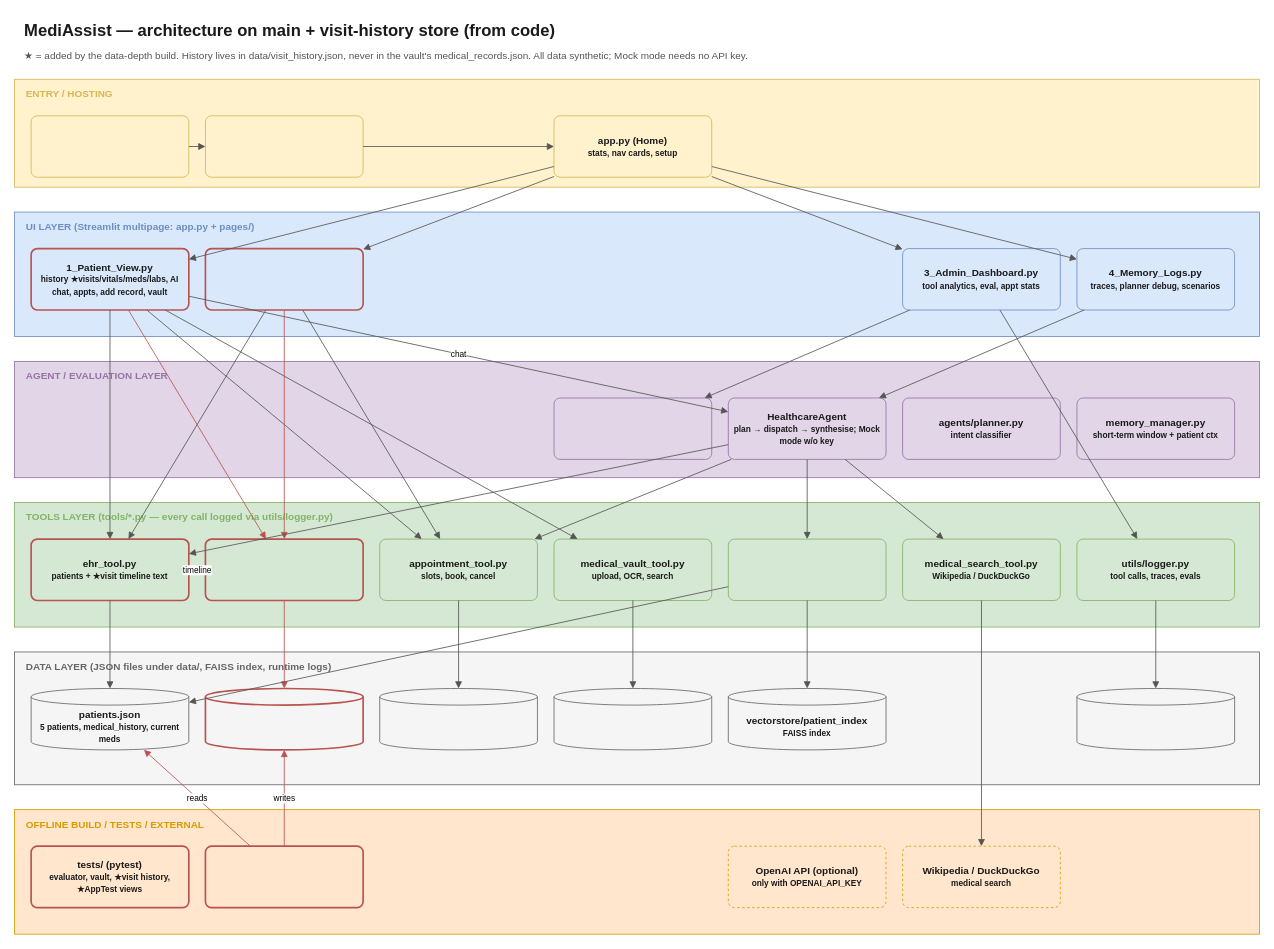
Some shapes in this 1274 by 949 pixel diagram are drawn without their labels. The shapes that lost their labels are listed below. From the top down, each one's centre as x and y in pixels, then its label:
At (109,146): "Visitor browser human".
At (284,146): "Streamlit Cloud hosted live demo".
At (284,278): "2_Doctor_View.py schedule ★past visits, patient lookup, availability".
At (632,428): "evaluation/evaluator.py heuristic + LLM judge, provenance".
At (284,569): "★ visit_history_tool.py read-only: patient/doctor visits, med replay".
At (806,569): "rag_tool.py FAISS retrieval".
At (284,718): "★ visit_history.json 27 past visits, 2 lab sets — unique ids".
At (458,719): "doctors.json · appointments.json 5 doctors · 2 future bookings".
At (632,719): "medical_records.json vault store (runtime) — NOT used by history".
At (1155,719): "logs/*.json tool_logs, agent_traces, eval_logs".
At (284,876): "★ generate_visit_history.py scripts/ · seed 20261029 · --check".
